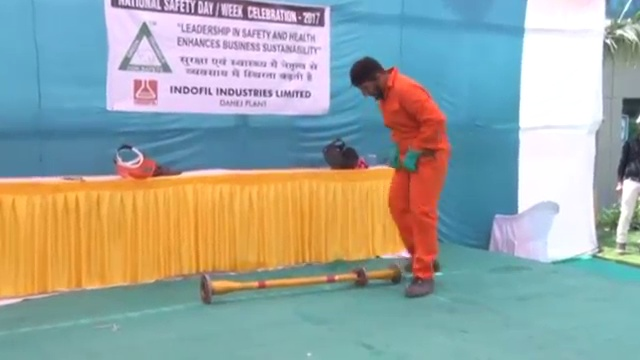helmet_off: (349, 56, 388, 102)
person: (344, 53, 450, 300), (612, 111, 640, 256)
